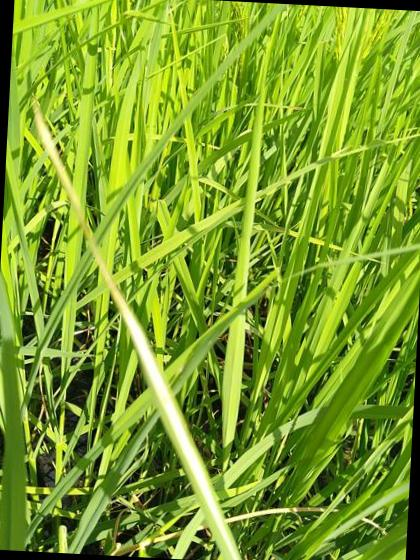Leaf Blight: (34, 102, 245, 560)
